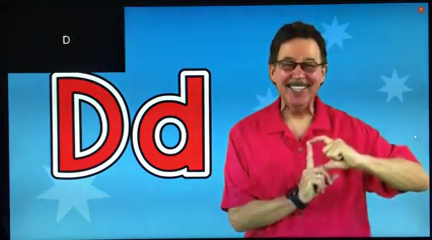D: (297, 127, 359, 203)
